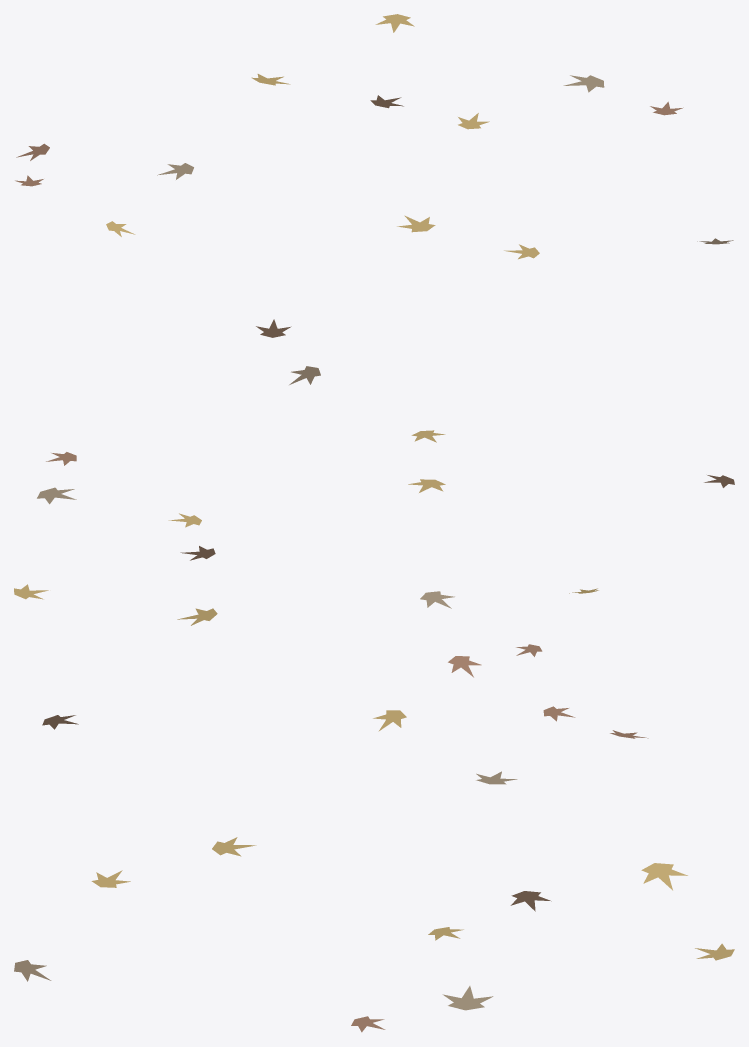
Rendered from leaf_litter_sparse.fbx.
3 renders of one model, top to bottom at view 1: azimuth 30°, elevation 25°; view 2: azimuth 150°, elevation 25°; view 3: azimuth 270°, elevation 25°, orthographic. The views are drawn at different scales.
Parts seen in each view (by area): view 1: leaf_litter_sparse; view 2: leaf_litter_sparse; view 3: leaf_litter_sparse.
Boxes of the visible parts, x1,y1,x2,y2 form: leaf_litter_sparse: (15,14,733,337); leaf_litter_sparse: (14,366,734,677); leaf_litter_sparse: (14,706,734,1032).
Bounding box in the file's own units: 1.03 × 0.967 × 0.026.
